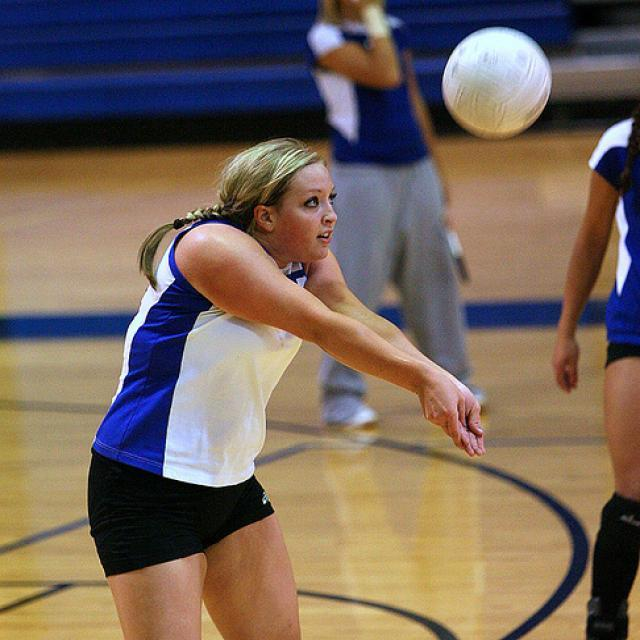volleyball: (443, 26, 552, 142)
